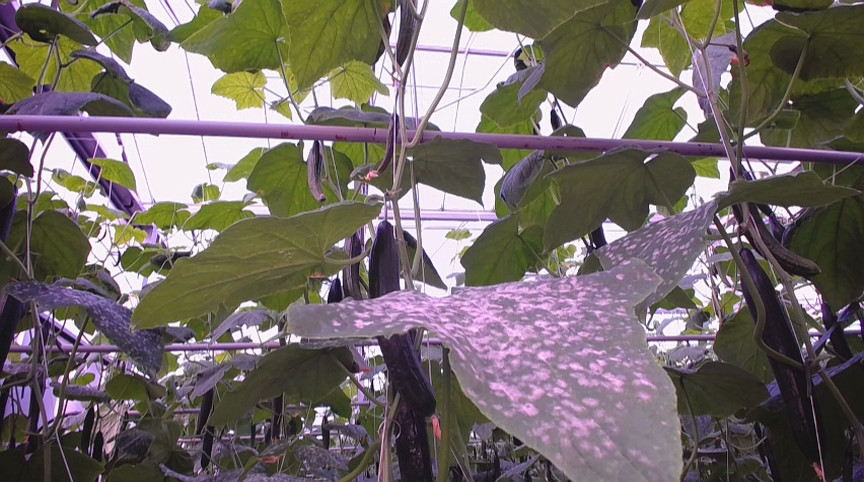cucumber: (731, 248, 826, 465), (363, 219, 437, 420), (724, 166, 824, 283), (388, 390, 436, 482), (388, 1, 421, 75), (304, 140, 326, 205)
